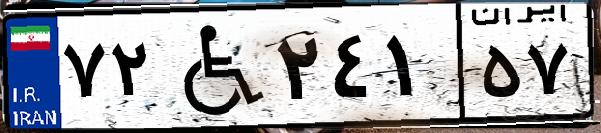1: (385, 28, 445, 110)
2: (270, 28, 330, 110), (110, 28, 158, 98)
4: (330, 28, 385, 110)
5: (475, 38, 525, 113)
7: (57, 26, 110, 100), (525, 38, 570, 115)
ژ (معلولین و جانبازان): (158, 12, 270, 120)
